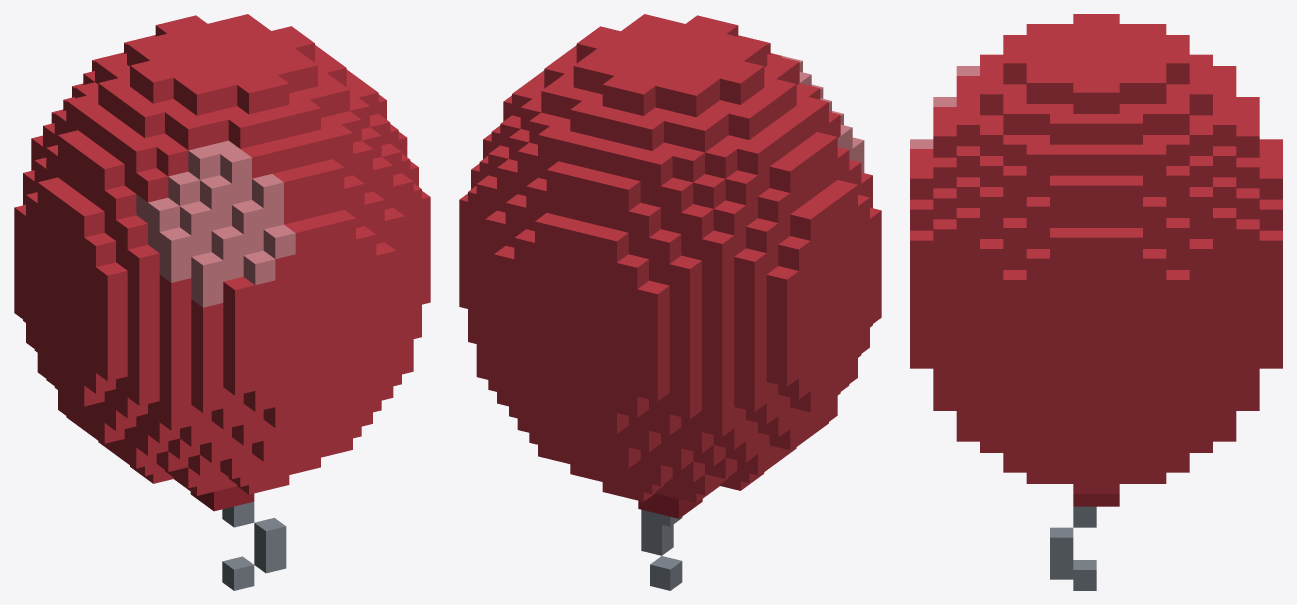
File: balloon.glb
3 views of the same model, side by side, from view 1: azimuth 30°, elevation 25°; view 2: azimuth 150°, elevation 25°; view 3: azimuth 270°, elevation 25° (orthographic).
Parts seen in each view (by area): view 1: prop; view 2: prop; view 3: prop.
Boxes of the visible parts, bbox=[...] form: prop: bbox=[14, 14, 430, 590]; prop: bbox=[459, 14, 881, 590]; prop: bbox=[910, 14, 1282, 590].
Bounding box in the file's own units: 10.24 × 16 × 10.24.
